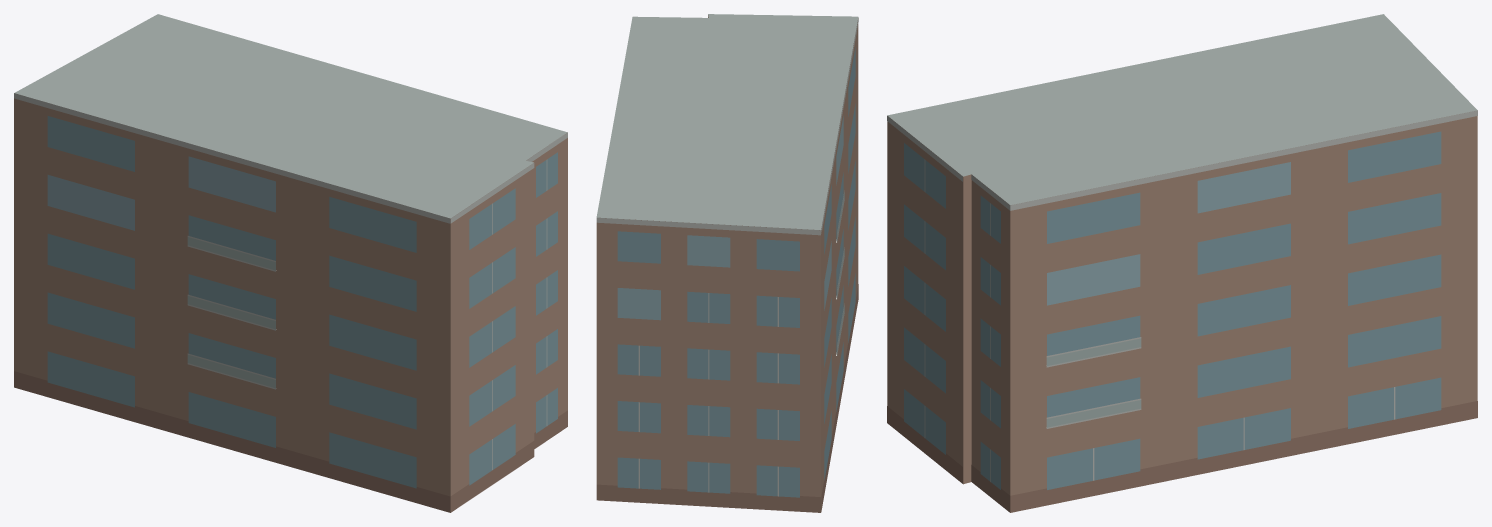
The model's file is survey-upis-32532246.glb.
3 renders of one model, left to right at view 1: azimuth 30°, elevation 25°; view 2: azimuth 150°, elevation 25°; view 3: azimuth 270°, elevation 25°, orthographic. The views are drawn at different scales.
Parts seen in each view (by area): view 1: survey-upis-32532246.tmp; view 2: survey-upis-32532246.tmp; view 3: survey-upis-32532246.tmp.
Part boxes in pixels (box(x1,y1,x2,y2)): survey-upis-32532246.tmp: box(14, 14, 567, 512); survey-upis-32532246.tmp: box(596, 14, 858, 512); survey-upis-32532246.tmp: box(887, 14, 1477, 512).
Size of the model in its own units: 17.88 by 13.4 by 23.33.
